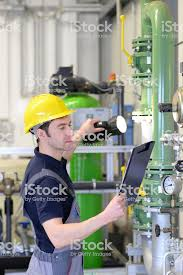Person_wearing_helmet: (17, 86, 75, 135)
